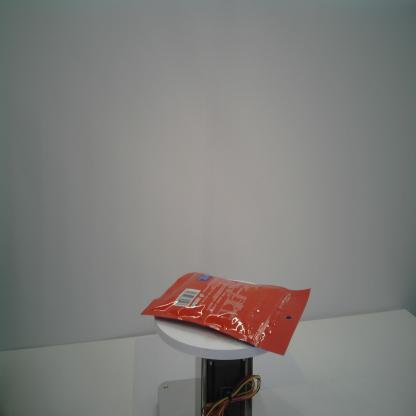Dried Fruit: (139, 269, 313, 358)
